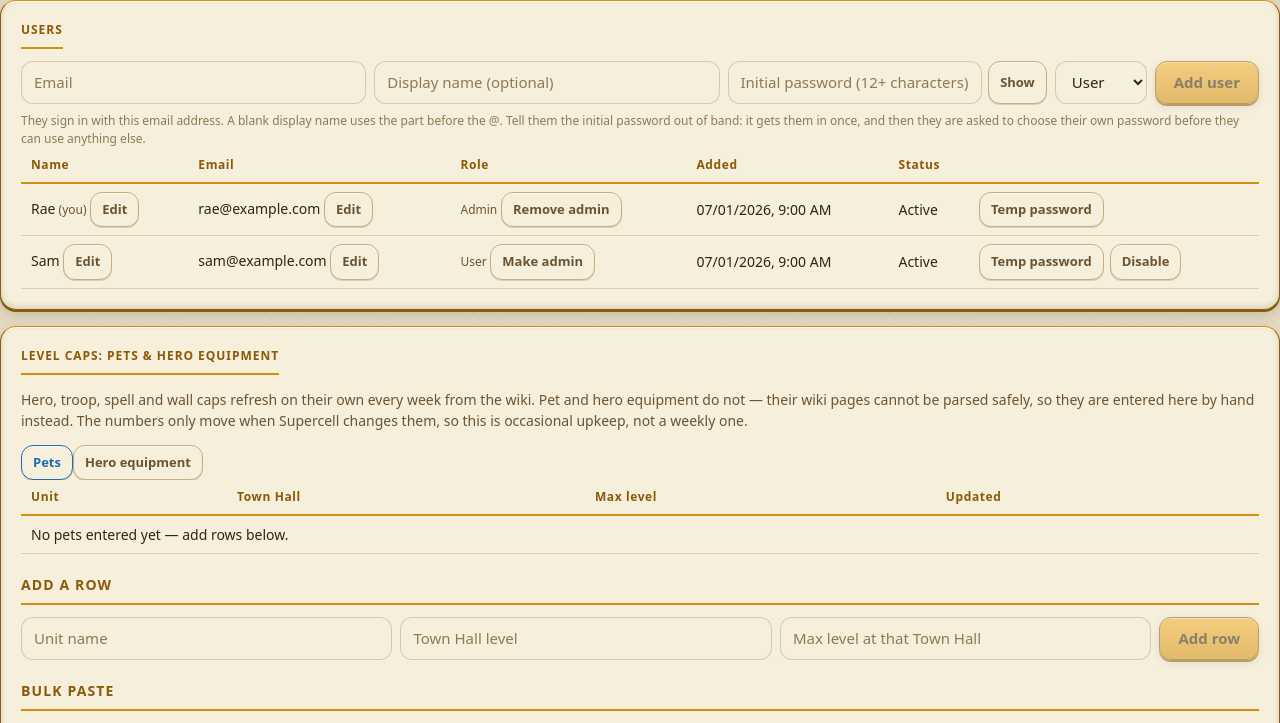
Test: the temporary password › is shown once and kept nowhere
Expected: the text "Rae" is shown, [31, 198, 56, 218]
Expected: the text "Sam" is shown, [31, 251, 60, 270]
Step 1. Click the button "Temp password" in the row of "sam@example.com" → (1041, 262), box [979, 244, 1104, 280]
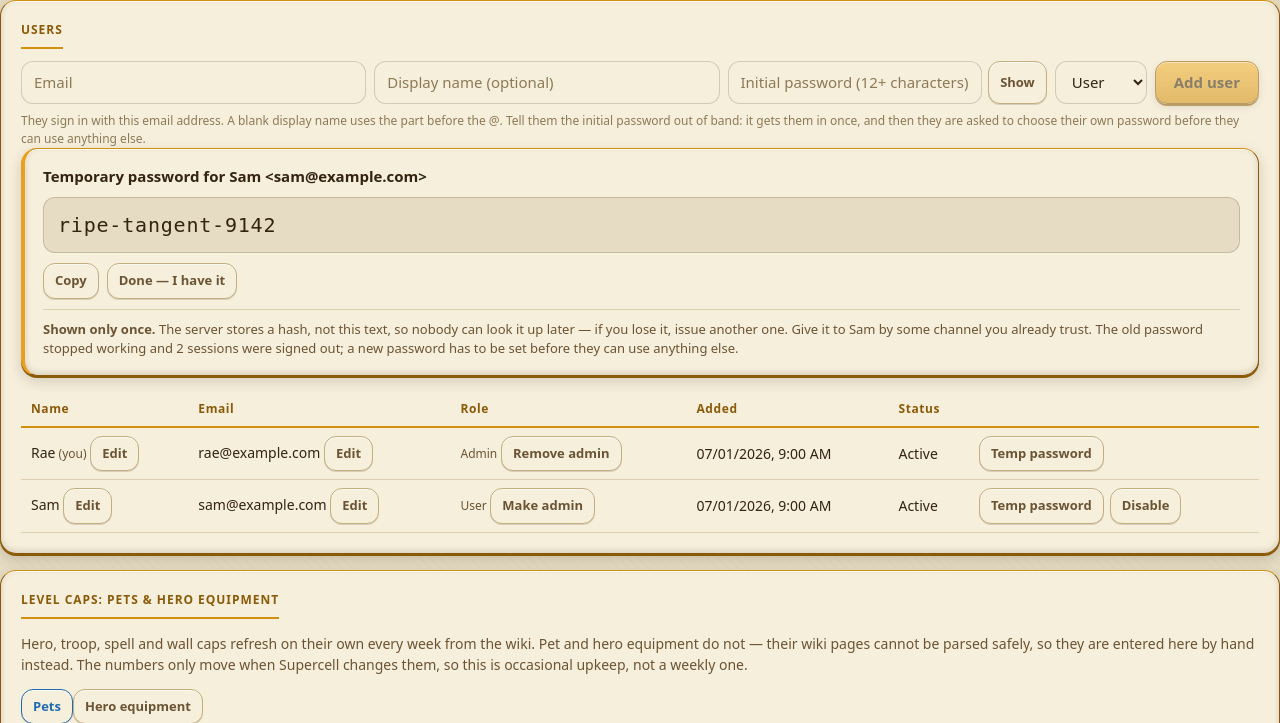
Result: the text "ripe-tangent-9142" is shown at [43, 197, 1240, 253]
Step 2. Click the button "Done — I have it" → (172, 281), box [107, 263, 237, 298]
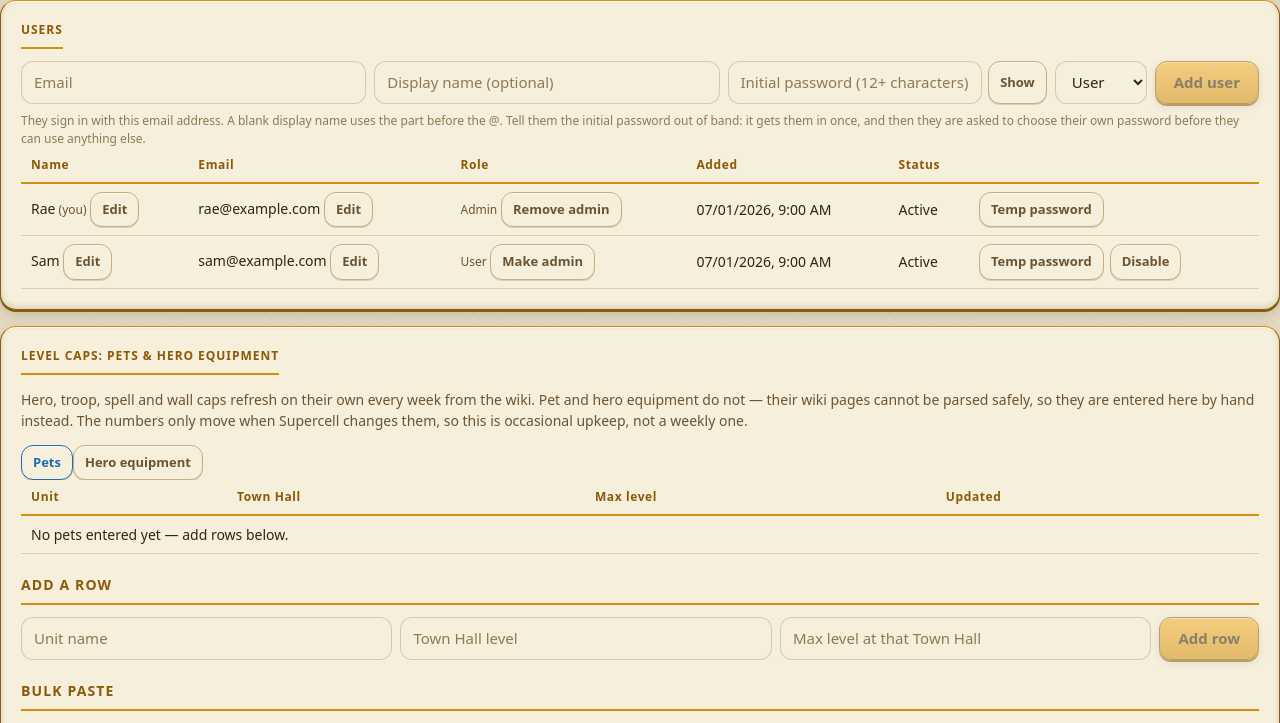
Result: the text "ripe-tangent-9142" is gone
